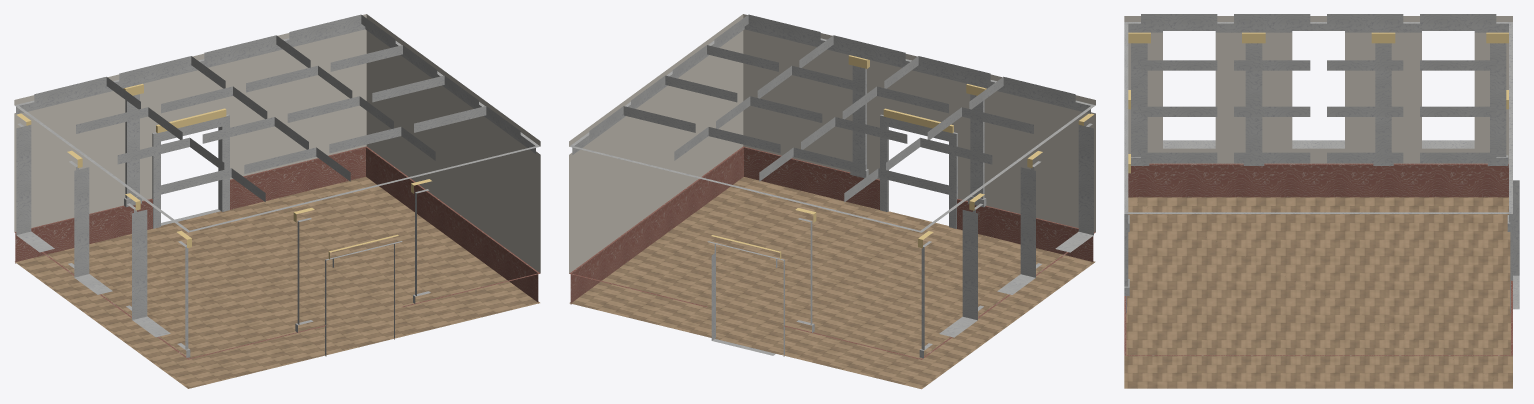
File: world-engine.glb
3 renders of one model, left to right at view 1: azimuth 30°, elevation 25°; view 2: azimuth 150°, elevation 25°; view 3: azimuth 270°, elevation 25°, orthographic. The views are drawn at different scales.
Visible parts, largest first — view 1: world-engine; view 2: world-engine; view 3: world-engine.
Boxes of the visible parts, x1,y1,x2,y2 form: world-engine: [14, 14, 540, 388]; world-engine: [569, 14, 1095, 389]; world-engine: [1124, 14, 1519, 388].
Bounding box in the file's own units: 14.4 × 6.4 × 12.
Materials: 7 (4 with a texture image).
